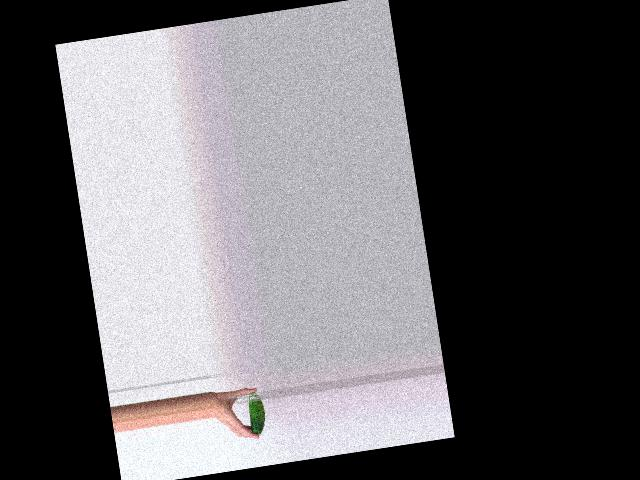cucumber: (246, 390, 268, 435)
